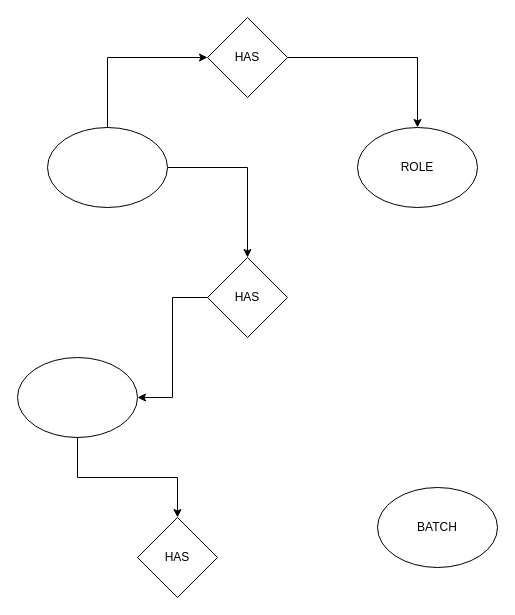
The diagram is 515 pixels wide and 615 high, and some of its shapes have lost their labels. The box of each missing label's shape, as (x1, y1, x2, y2) in pixels:
COURSE: (16, 356, 138, 438)
USER: (46, 126, 168, 208)
